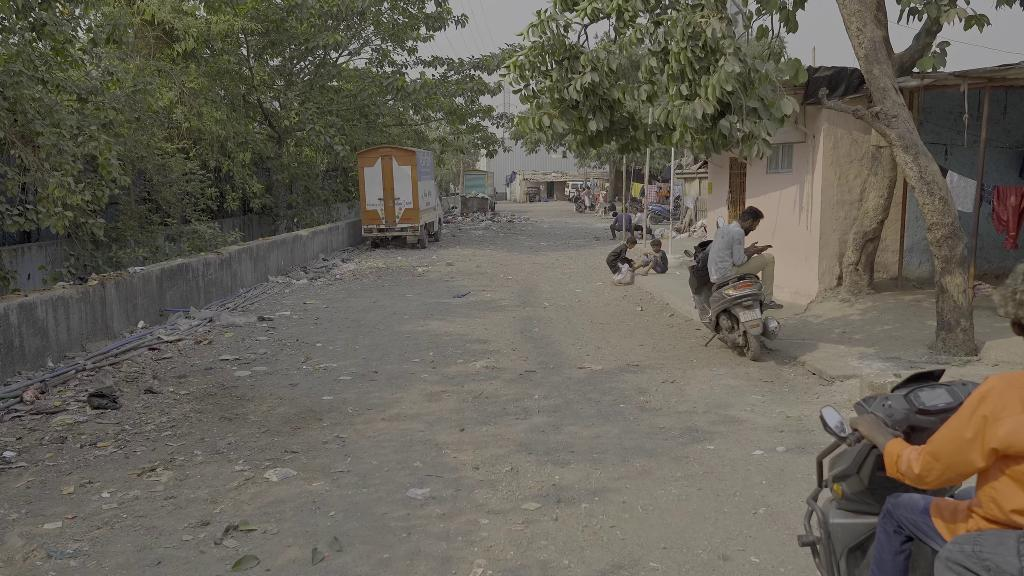garbage: (84, 383, 125, 413), (264, 464, 299, 481), (257, 314, 274, 323)
